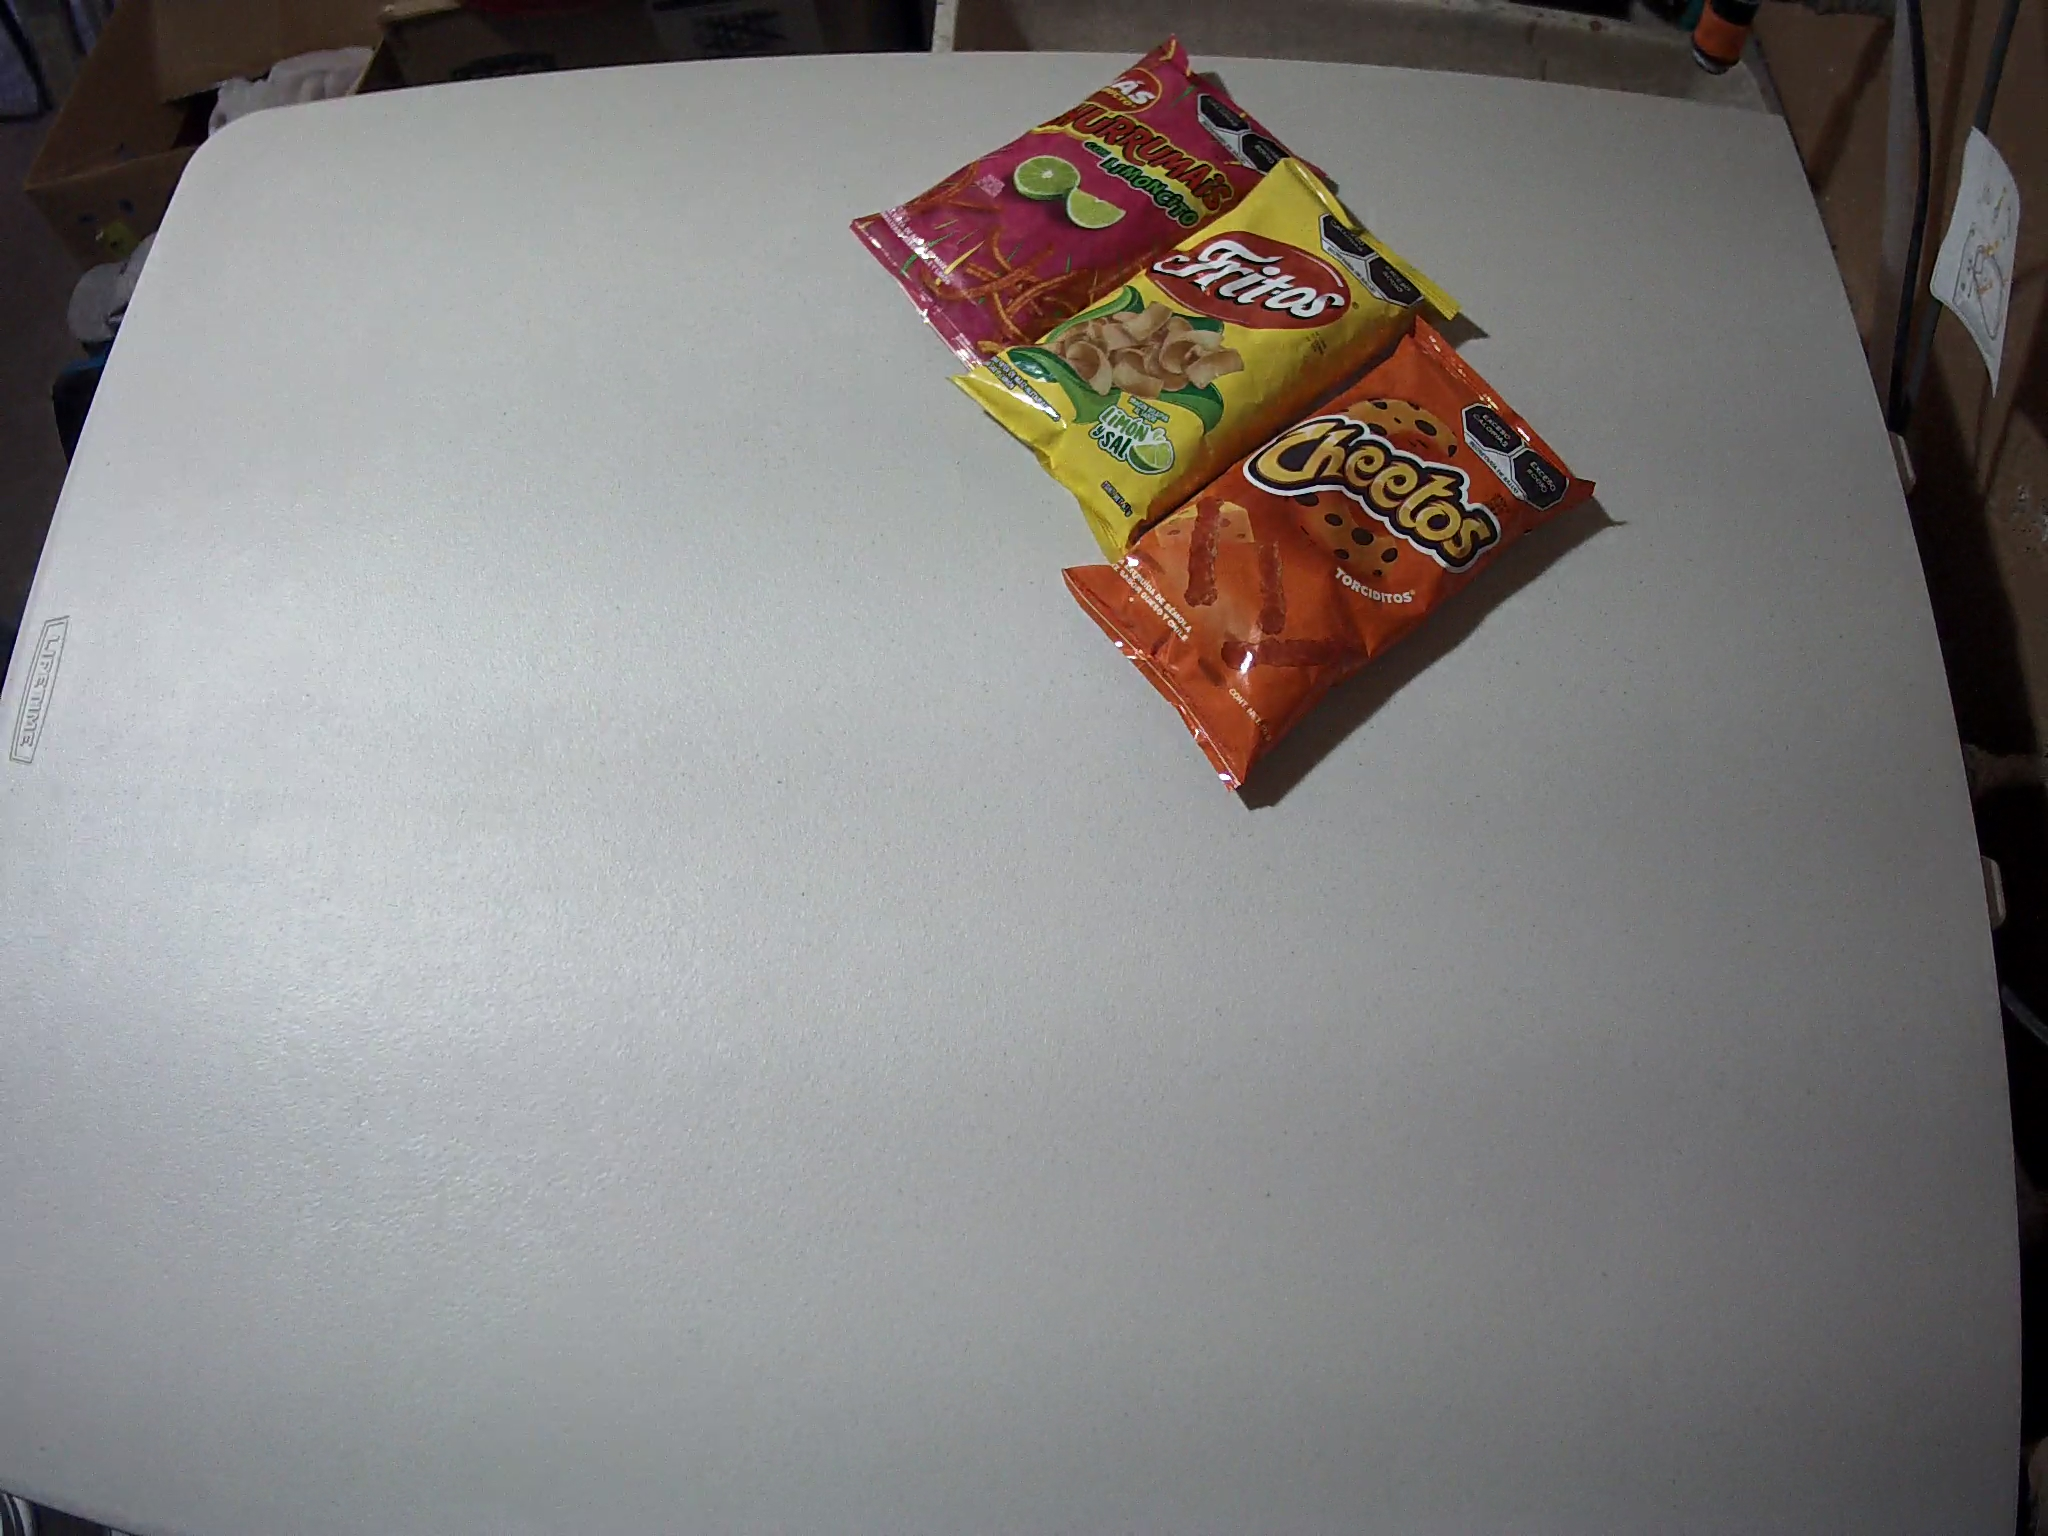CheetosTorciditos_55_F: (1063, 316, 1598, 794)
Churrumais_70_F: (851, 35, 1321, 373)
FritosSalLimon_65_F: (945, 157, 1461, 563)
